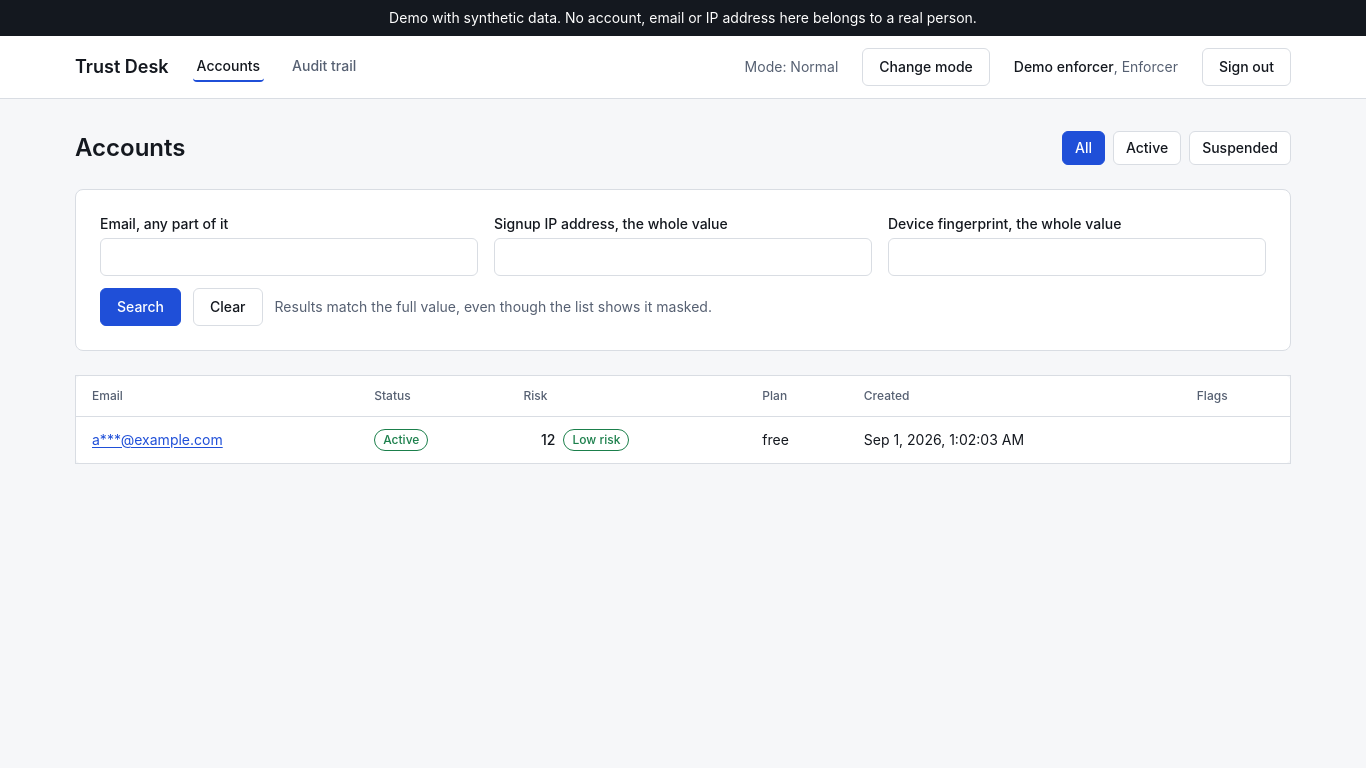
Test: ModeChangeDialog › offers three labelled modes to an enforcer, with the one in force disabled
Expected: the text "Mode: Normal" is shown, [745, 57, 838, 77]
Click the button "Change mode" at point(926, 67), box [862, 48, 990, 86]
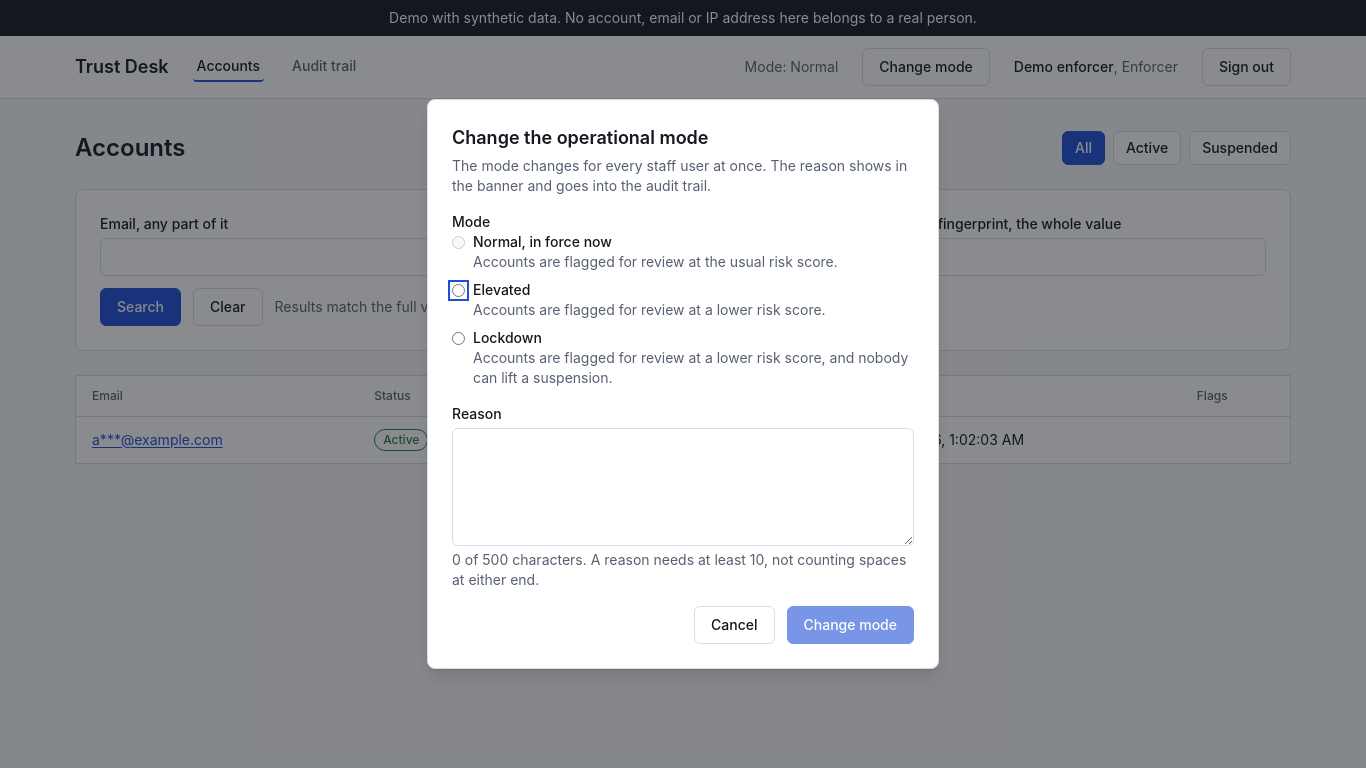
Expected: the number of radio buttons is 3, [452, 236, 465, 249]; [452, 284, 465, 297]; [452, 332, 465, 345]
Expected: the radio button labelled "Normal, in force now" is disabled, [452, 236, 465, 249]
Expected: the radio button labelled "Elevated" is enabled, [452, 284, 465, 297]
